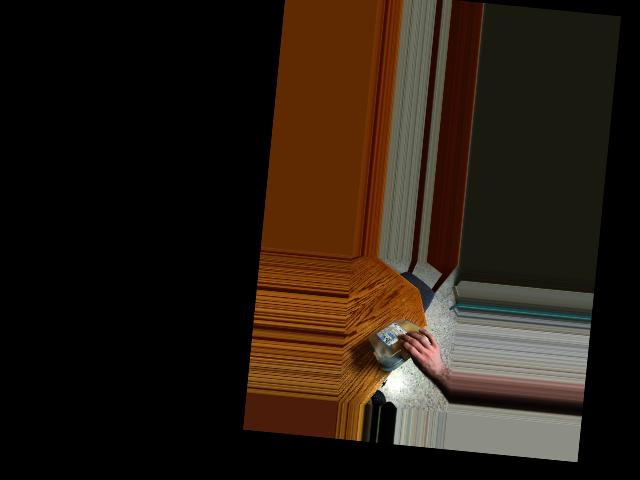cheese: (366, 315, 435, 373)
